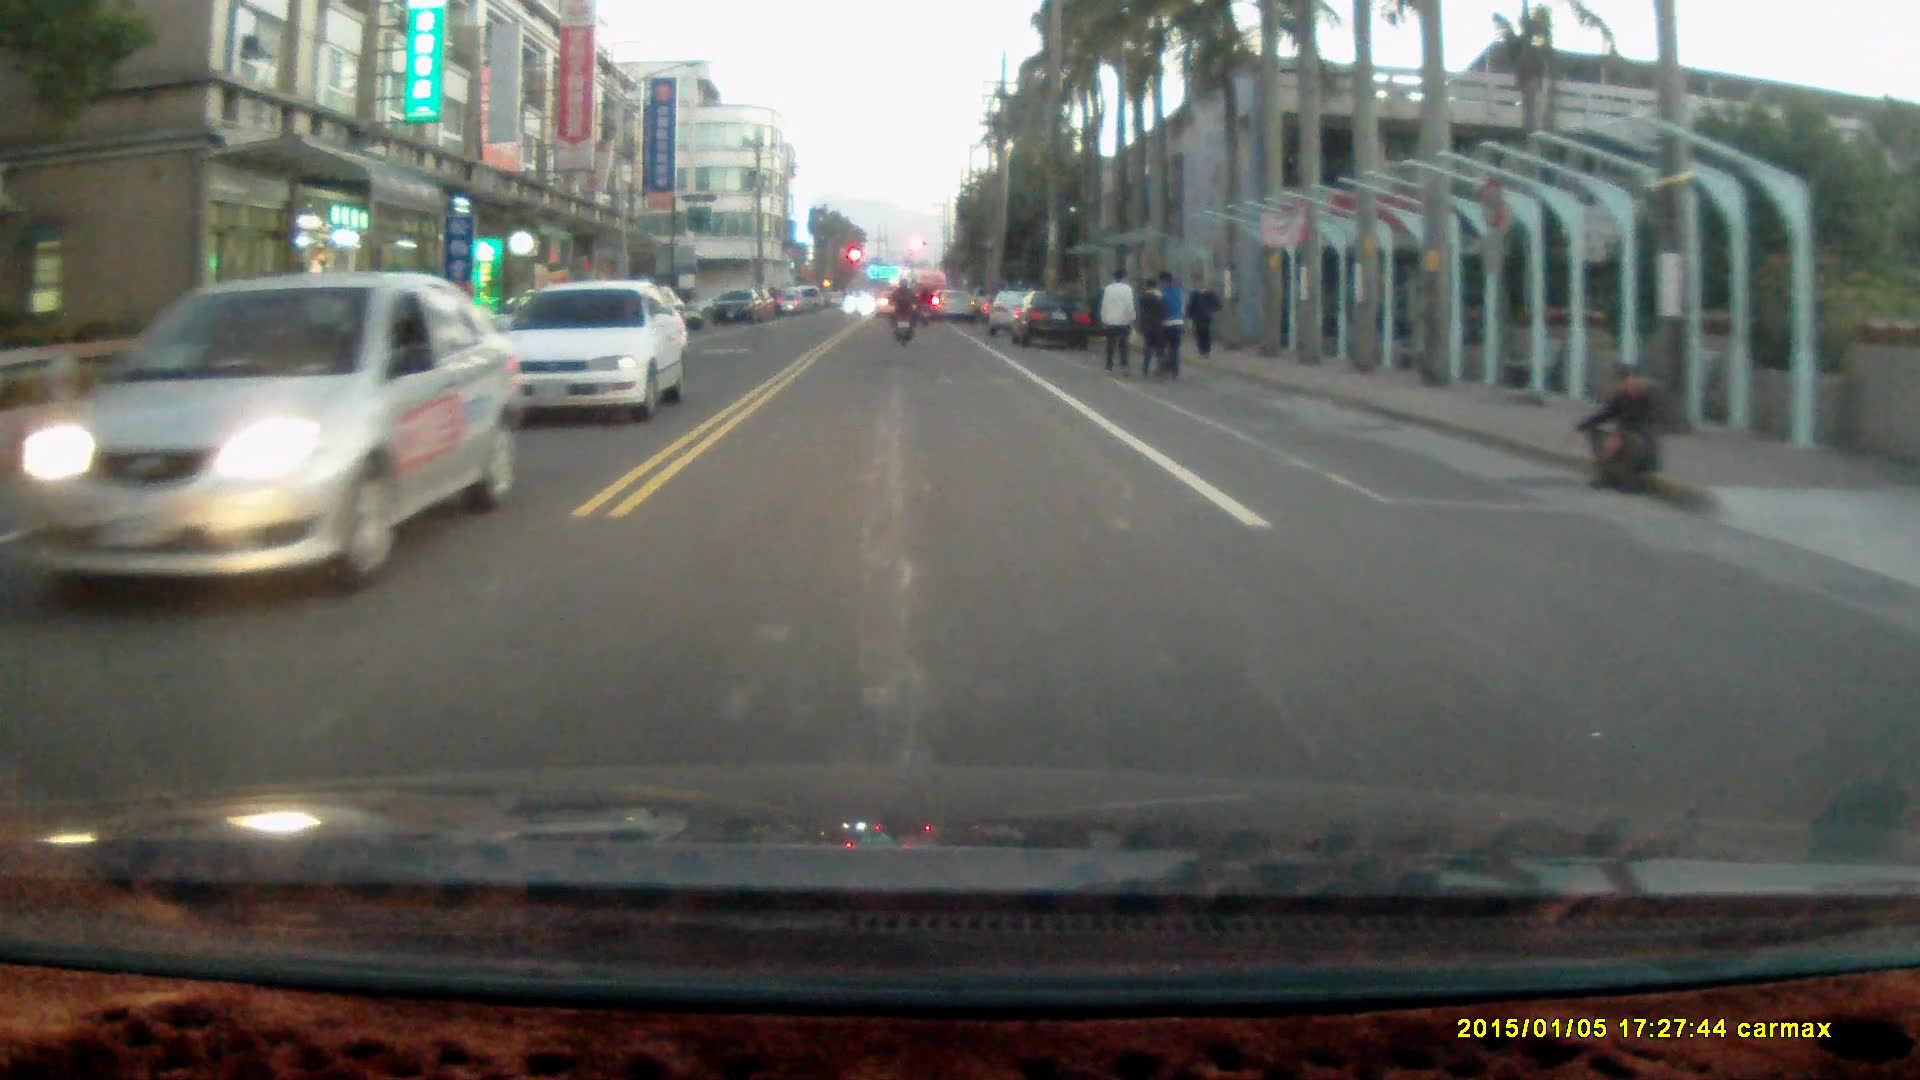pedestrian: (1572, 364, 1664, 495), (1143, 265, 1190, 378), (1097, 263, 1134, 376), (1133, 273, 1170, 378), (1184, 267, 1219, 355)
rider: (885, 275, 917, 346)
vehicle: (7, 270, 514, 597), (495, 279, 692, 420), (1006, 290, 1098, 347)
